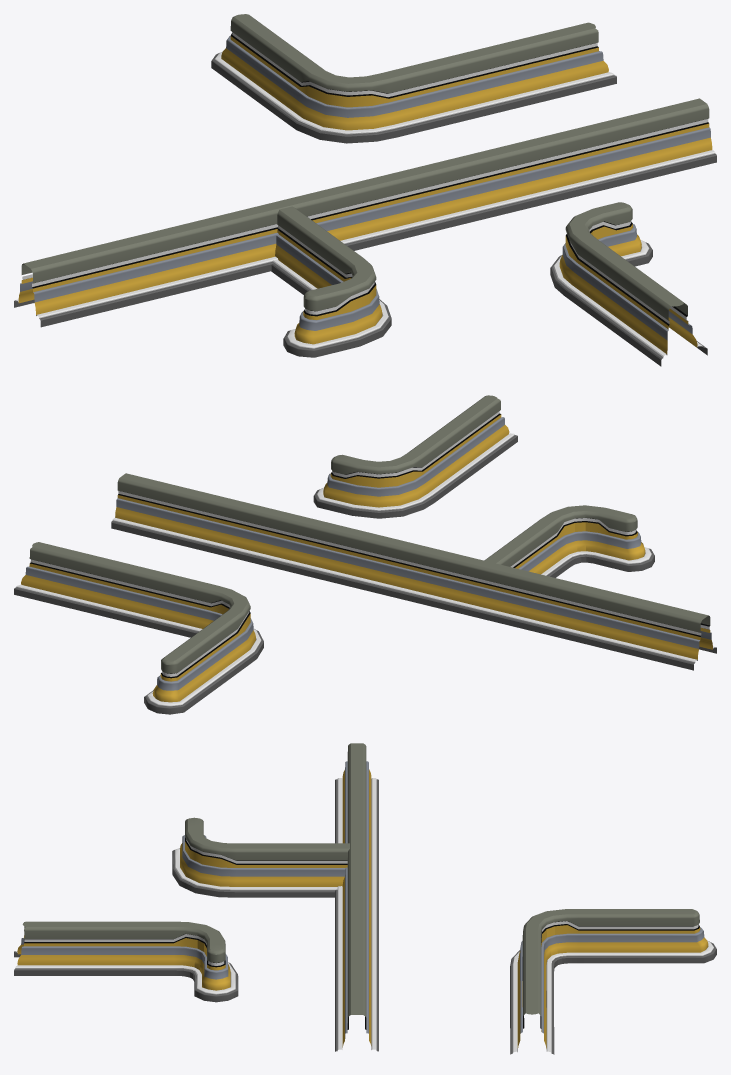
Rendered from Level20_Small_walls.fbx.
The picture shows the model from 3 angles, top to bottom: view 1: azimuth 30°, elevation 25°; view 2: azimuth 150°, elevation 25°; view 3: azimuth 270°, elevation 25°; orthographic projection. The views are drawn at different scales.
Parts seen in each view (by area): view 1: Small_wall_L33, Small_wall_L44, Small_wall_L42, Small_wall_L43; view 2: Small_wall_L33, Small_wall_L44, Small_wall_L42, Small_wall_L43; view 3: Small_wall_L44, Small_wall_L42, Small_wall_L33, Small_wall_L43.
Boxes of the visible parts, left/top/right/bottom form: Small_wall_L33: left=14, top=98, right=716, bottom=327; Small_wall_L44: left=211, top=14, right=616, bottom=143; Small_wall_L42: left=550, top=202, right=707, bottom=366; Small_wall_L43: left=271, top=206, right=391, bottom=357; Small_wall_L33: left=111, top=473, right=716, bottom=670; Small_wall_L44: left=14, top=542, right=263, bottom=714; Small_wall_L42: left=313, top=395, right=517, bottom=518; Small_wall_L43: left=484, top=505, right=654, bottom=577; Small_wall_L44: left=510, top=909, right=716, bottom=1054; Small_wall_L42: left=14, top=921, right=238, bottom=1002; Small_wall_L33: left=335, top=743, right=378, bottom=1051; Small_wall_L43: left=172, top=817, right=349, bottom=897.
Size of the model in its own units: 508 by 37.57 by 550.
